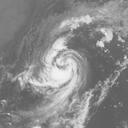cyclone: (42, 47, 84, 91)
